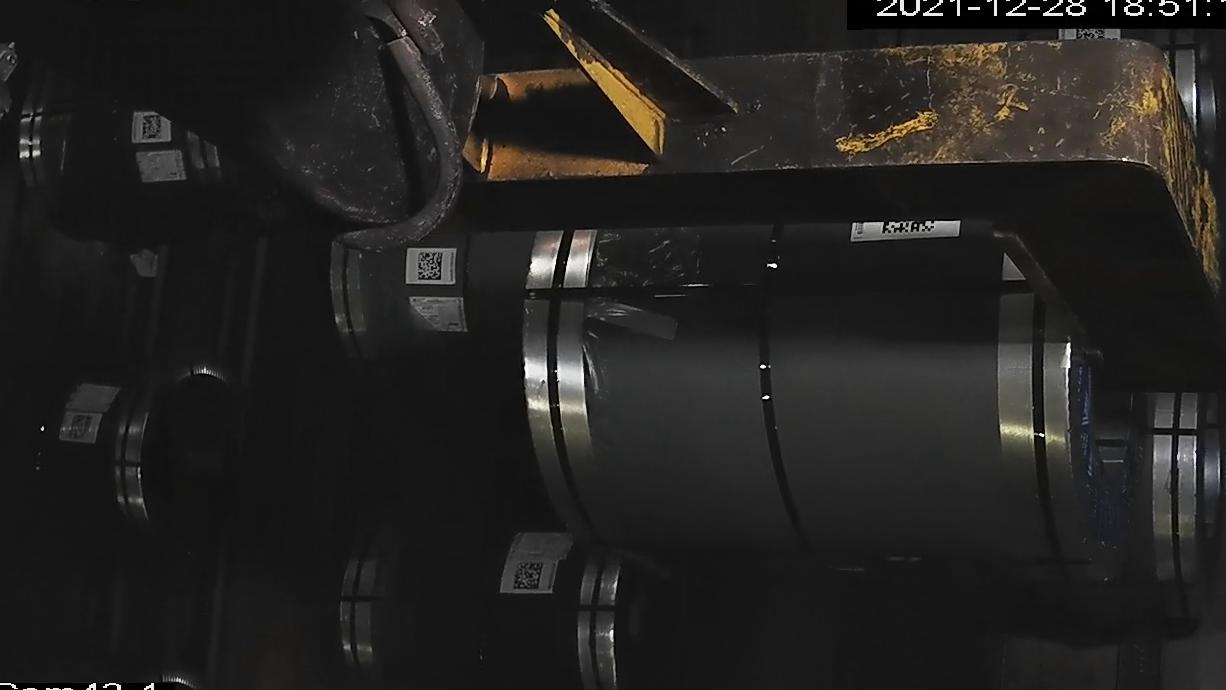data matrix: (511, 559, 546, 593), (414, 249, 446, 285), (67, 413, 96, 443), (138, 115, 166, 143)
